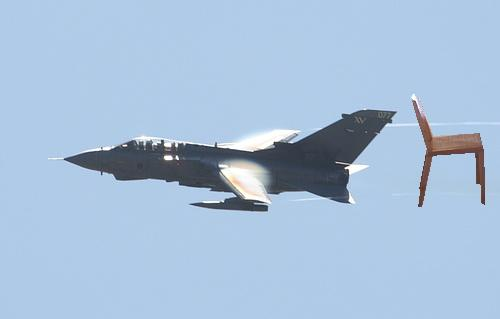tampered: (412, 95, 485, 207)
